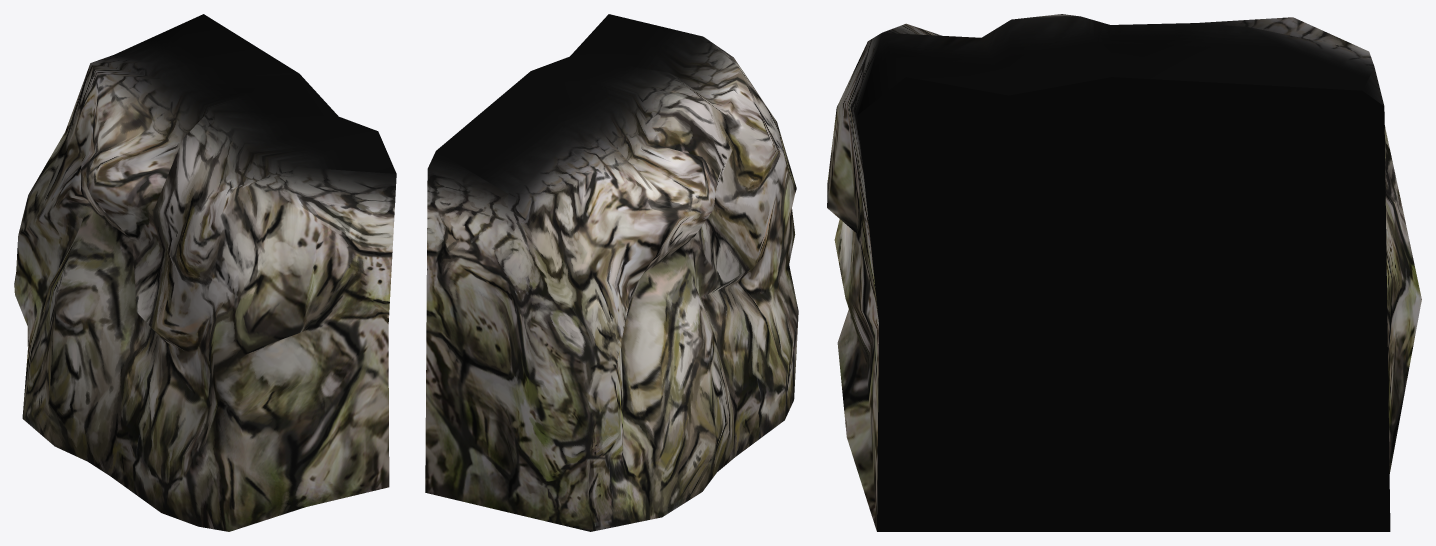
Rendered from STR_WallCaveA.FBX.
3 renders of one model, left to right at view 1: azimuth 30°, elevation 25°; view 2: azimuth 150°, elevation 25°; view 3: azimuth 270°, elevation 25°, orthographic. The views are drawn at different scales.
Parts seen in each view (by area): view 1: STR_WallCaveA; view 2: STR_WallCaveA; view 3: STR_WallCaveA.
Boxes of the visible parts, <box> form: STR_WallCaveA: <box>14,14,396,531</box>; STR_WallCaveA: <box>425,14,798,531</box>; STR_WallCaveA: <box>827,14,1421,531</box>.
Size of the model in its own units: 264 by 400 by 474.
